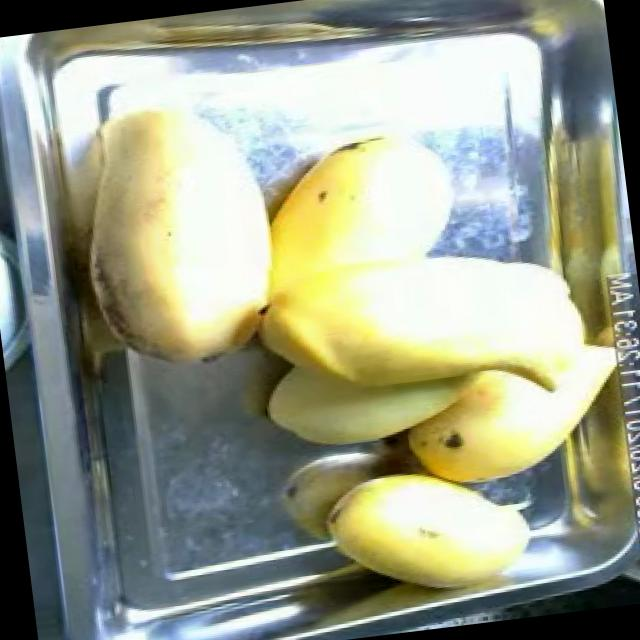fruit: (220, 111, 507, 482), (52, 91, 234, 387), (312, 444, 546, 617), (383, 343, 593, 506), (512, 106, 640, 341), (529, 352, 640, 563)
